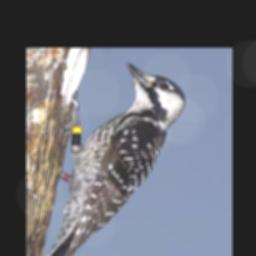Woodpecker: (35, 60, 188, 256)
